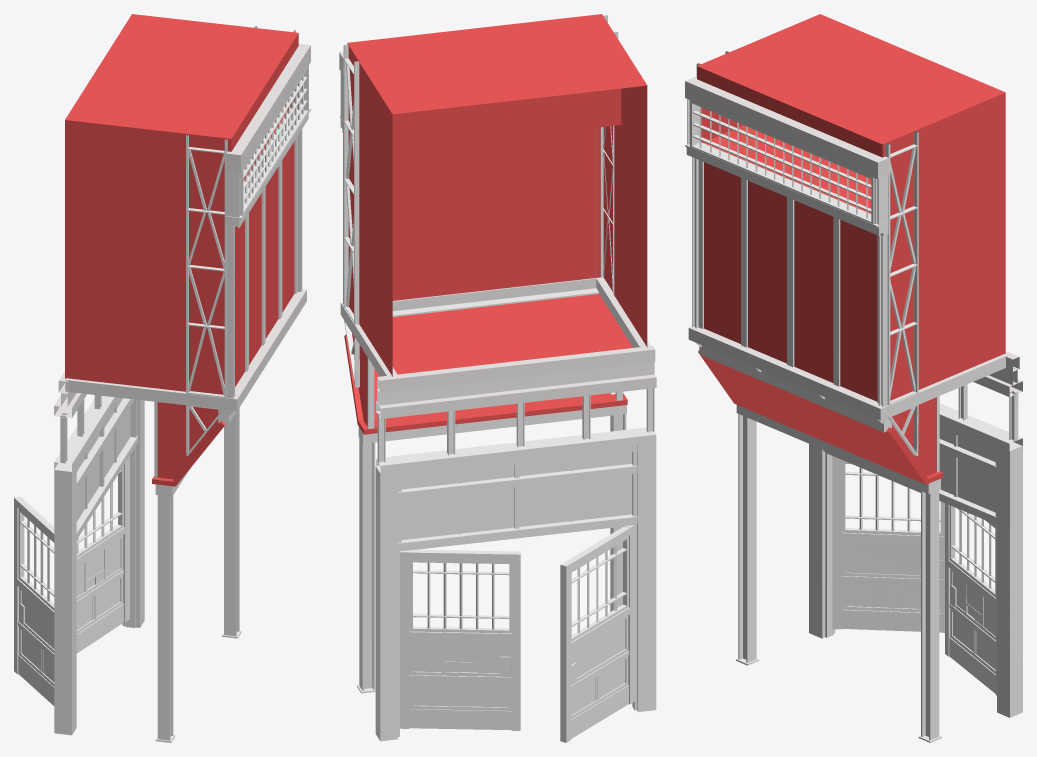
The model's file is SM_H_Building_Tide_Jail_D_01_ATLAS.fbx.
The picture shows the model from 3 angles, left to right: view 1: azimuth 30°, elevation 25°; view 2: azimuth 150°, elevation 25°; view 3: azimuth 270°, elevation 25°; orthographic projection.
Visible parts, largest first — view 1: SM_H_Building_Tide_Jail_D_01_ATLAS; view 2: SM_H_Building_Tide_Jail_D_01_ATLAS; view 3: SM_H_Building_Tide_Jail_D_01_ATLAS.
Part boxes in pixels (x1=…): SM_H_Building_Tide_Jail_D_01_ATLAS: x1=14, y1=14, x2=310, y2=742; SM_H_Building_Tide_Jail_D_01_ATLAS: x1=339, y1=14, x2=656, y2=742; SM_H_Building_Tide_Jail_D_01_ATLAS: x1=685, y1=14, x2=1022, y2=742.
Size of the model in its own units: 774 by 787 by 1589.
